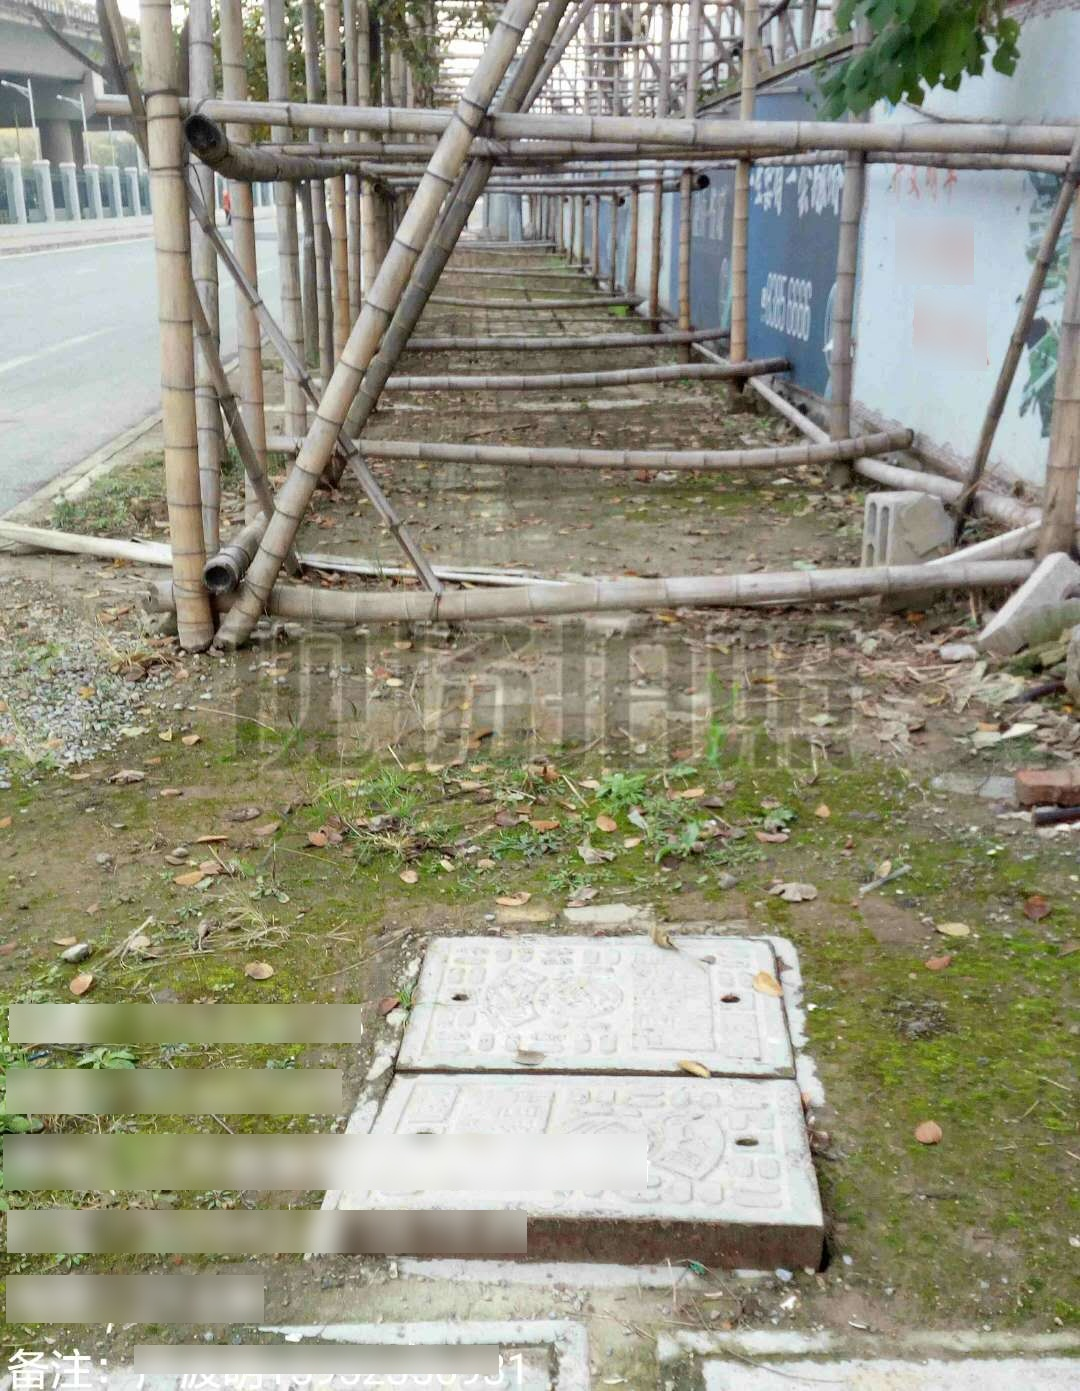well: (305, 925, 835, 1270)
